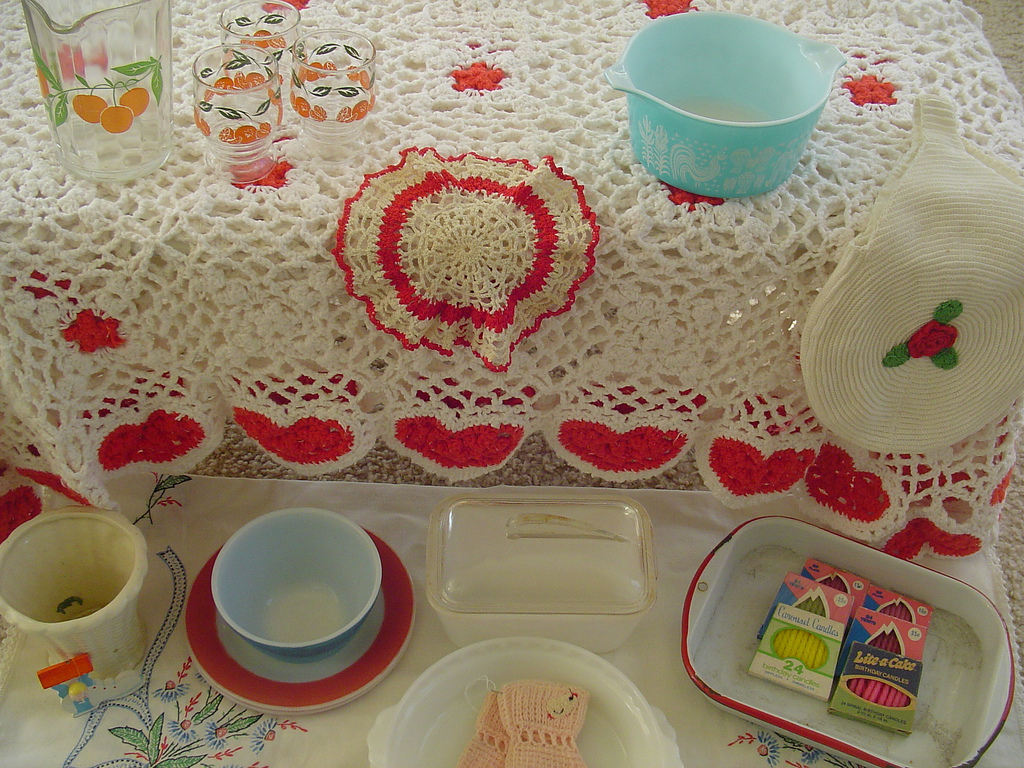glass of water: (181, 4, 296, 171)
